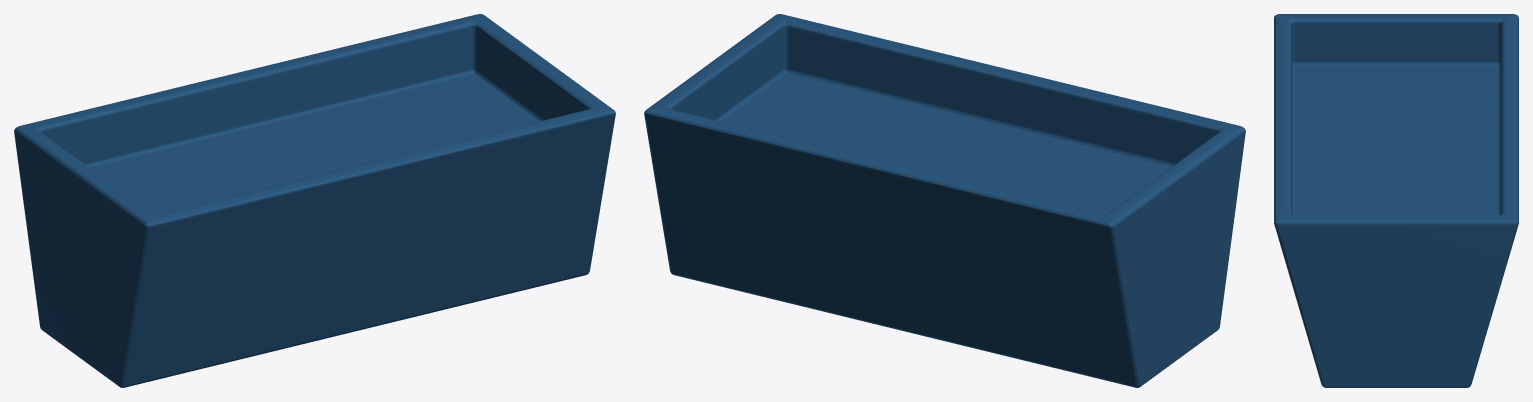
Rendered from FlowerBed.fbx.
3 renders of one model, left to right at view 1: azimuth 30°, elevation 25°; view 2: azimuth 150°, elevation 25°; view 3: azimuth 270°, elevation 25°, orthographic. The views are drawn at different scales.
Visible parts, largest first — view 1: FlowerBed; view 2: FlowerBed; view 3: FlowerBed.
Boxes of the visible parts, <box> form: FlowerBed: <box>14,14,615,387</box>; FlowerBed: <box>644,14,1245,387</box>; FlowerBed: <box>1274,14,1518,387</box>.
Bounding box in the file's own units: 4 × 1.5 × 1.98.
